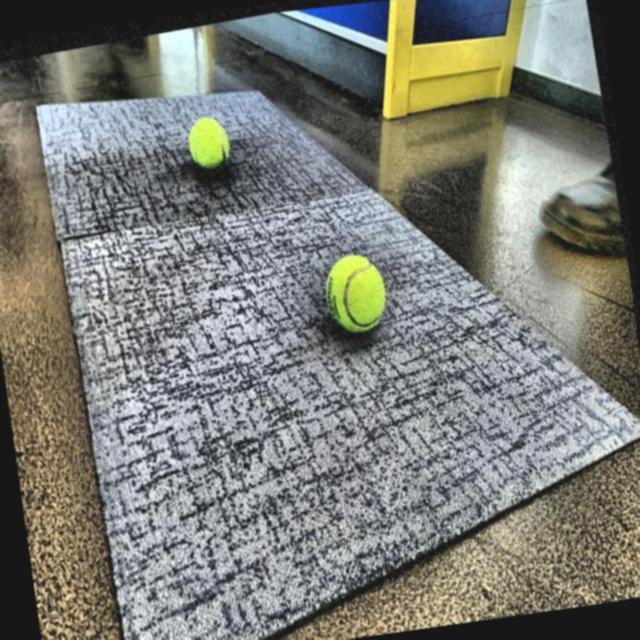tennis-ball: (313, 240, 403, 350), (180, 108, 238, 180)
